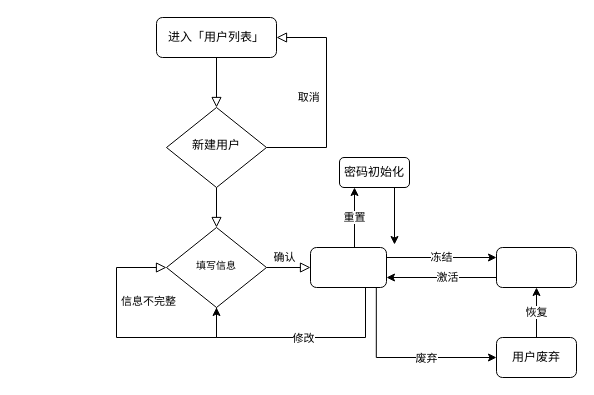
The diagram is 594 pixels wide and 395 high, and some of its shapes have lost their labels. The shapes that lost their labels are listed below. From the top down, each one's centre as x and y in pixels, then its label:
At (x=348, y=267): "用户激活".
At (x=536, y=267): "用户冻结".
